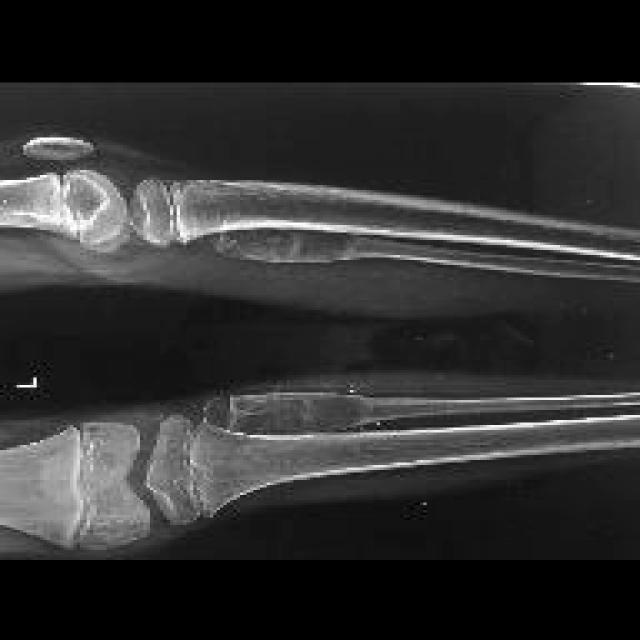bone-cancer: (208, 390, 375, 433), (212, 220, 373, 263)
